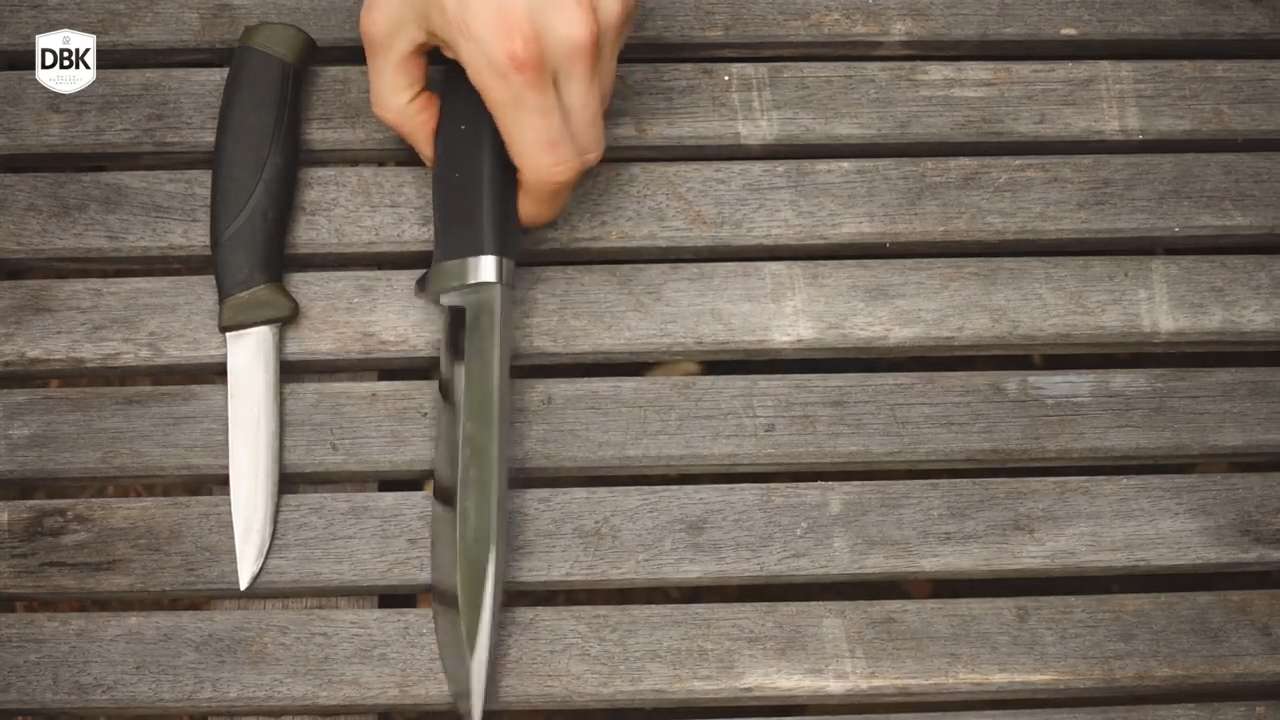knife: (354, 87, 625, 719), (200, 259, 315, 627)
